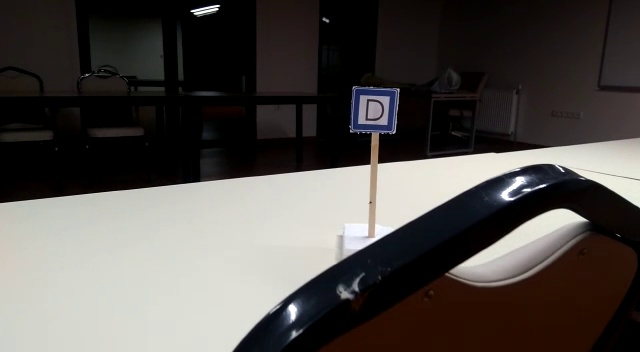durak: (348, 87, 400, 132)
